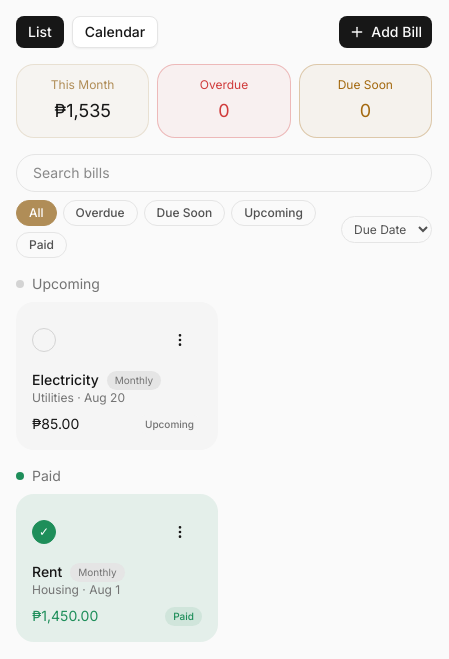
Scenario: BillsPage › switches back to the list view when the List toggle is clicked
This screenshot has width=449, height=659.
Click the button with test id "bills-view-calendar". click: click(115, 32)
box: [72, 16, 158, 48]
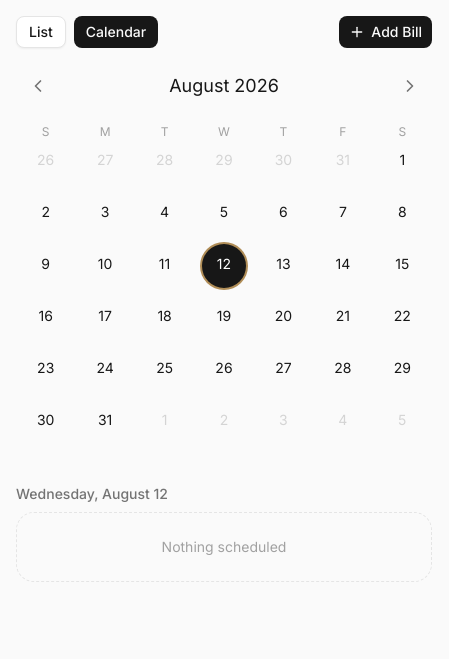
Click the button with test id "bills-view-list". click: click(41, 32)
box: [16, 16, 66, 48]
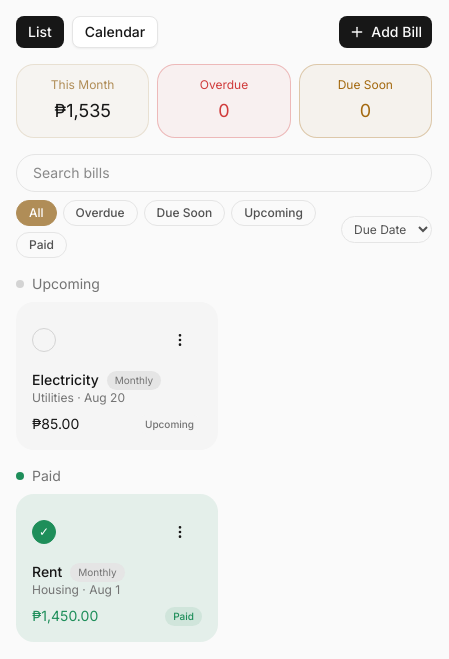
Expected: the element with test id "bills-list-view" is shown
